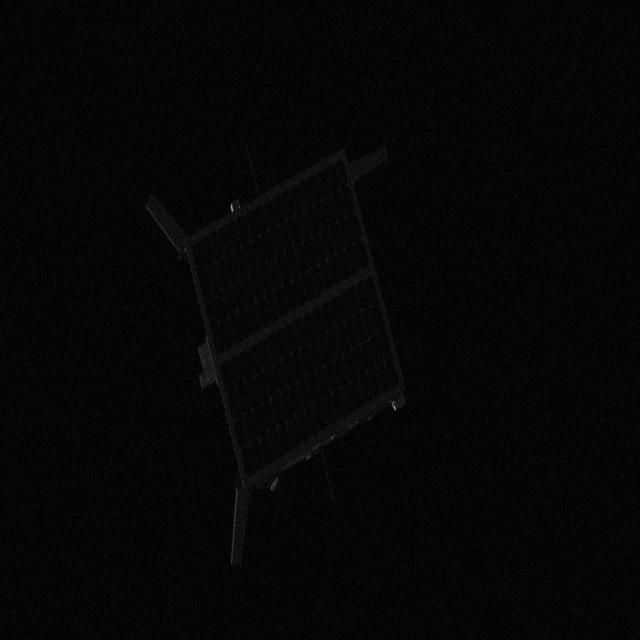satellite: (146, 150, 416, 572)
